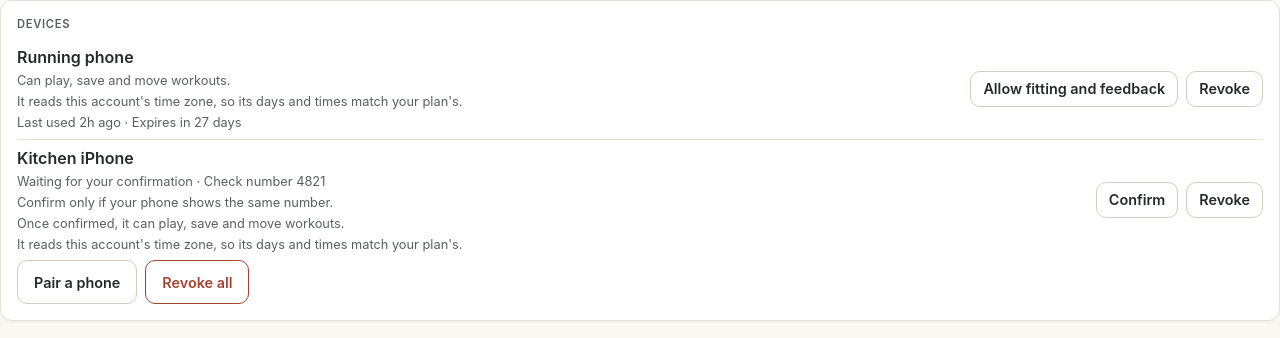
Scenario: Settings → Devices › Revoke all stops every phone at once
Click the button "Revoke all" at (197, 282), box [145, 260, 250, 304]
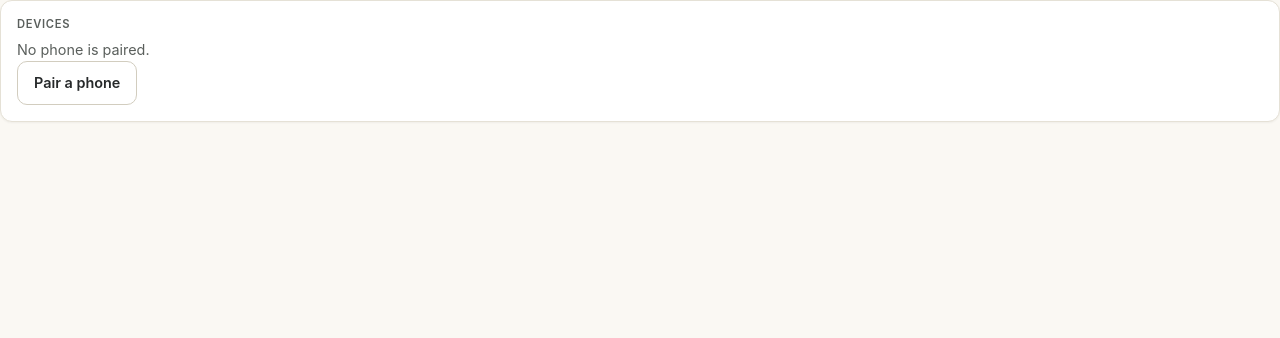
Result: no elements with class "setting-row" are shown
Result: the text "No phone is paired" is shown at [17, 41, 150, 58]
